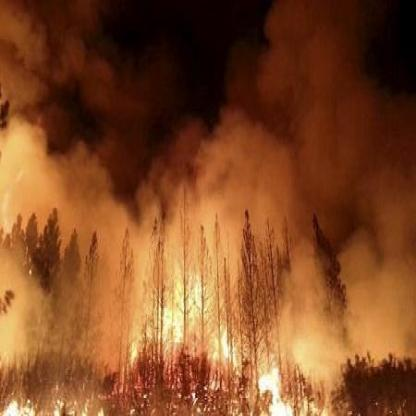fire: (119, 279, 300, 413)
smoke: (0, 8, 395, 288)
